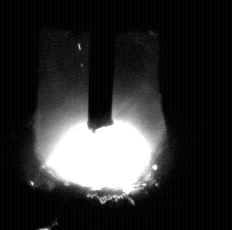arame: (89, 0, 114, 132)
poca: (34, 0, 166, 230)
